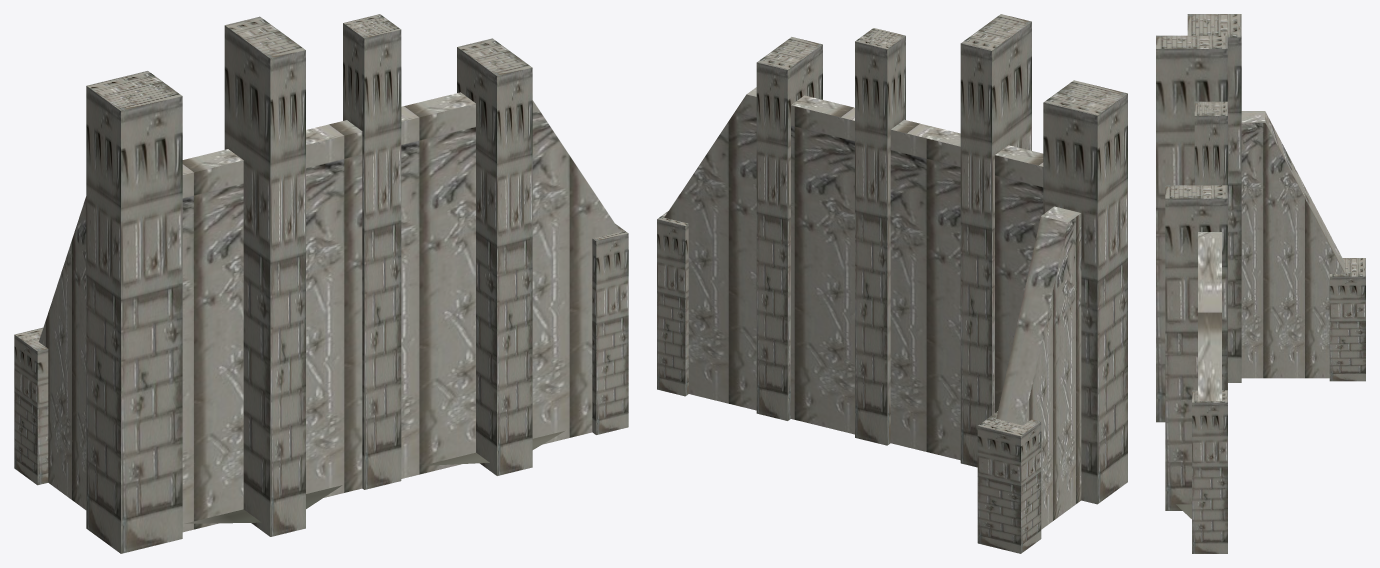
The model's file is ruins2-textured.glb.
The picture shows the model from 3 angles, left to right: view 1: azimuth 30°, elevation 25°; view 2: azimuth 150°, elevation 25°; view 3: azimuth 270°, elevation 25°; orthographic projection. The views are drawn at different scales.
Visible parts, largest first — view 1: Ruin_Small_Columns, Ruin_Small_Face; view 2: Ruin_Small_Face, Ruin_Small_Columns; view 3: Ruin_Small_Columns, Ruin_Small_Face.
Part boxes in pixels (x1,y1,x2,y2): Ruin_Small_Columns: [14, 14, 628, 553]; Ruin_Small_Face: [39, 92, 619, 532]; Ruin_Small_Face: [664, 87, 1081, 529]; Ruin_Small_Columns: [657, 14, 1127, 553]; Ruin_Small_Columns: [1156, 14, 1365, 553]; Ruin_Small_Face: [1176, 111, 1344, 518].
Bounding box in the file's own units: 3.82 × 3.42 × 1.74.
Materials: 2 (2 with a texture image).
